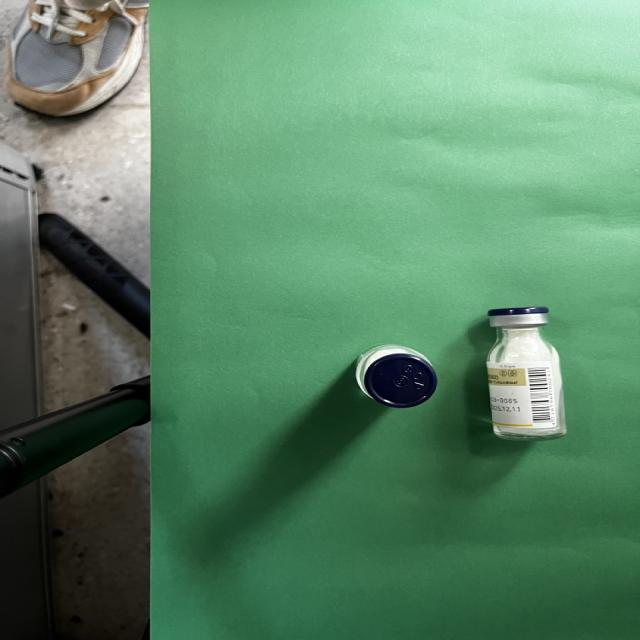Vials: (486, 306, 566, 440), (355, 346, 437, 408)
